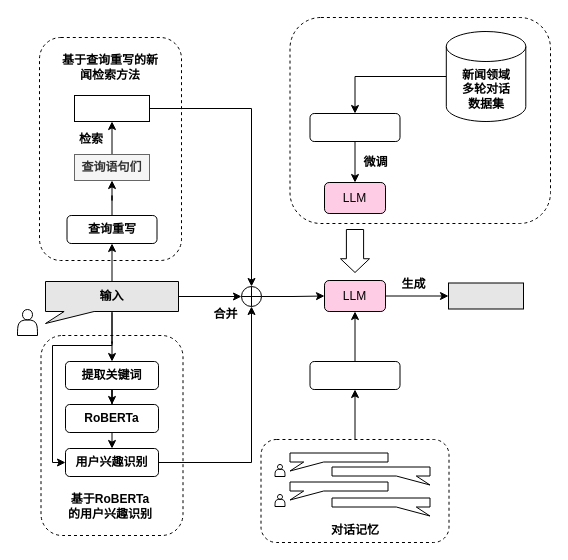
This 568x560 diagram has some shape labels left out. Here are the shapes that lost their labels. From the top down, the centre of each, then its label:
point 112,108: 外部文档
point 354,127: LoRA
point 486,295: 响应
point 354,375: GraphRAG
